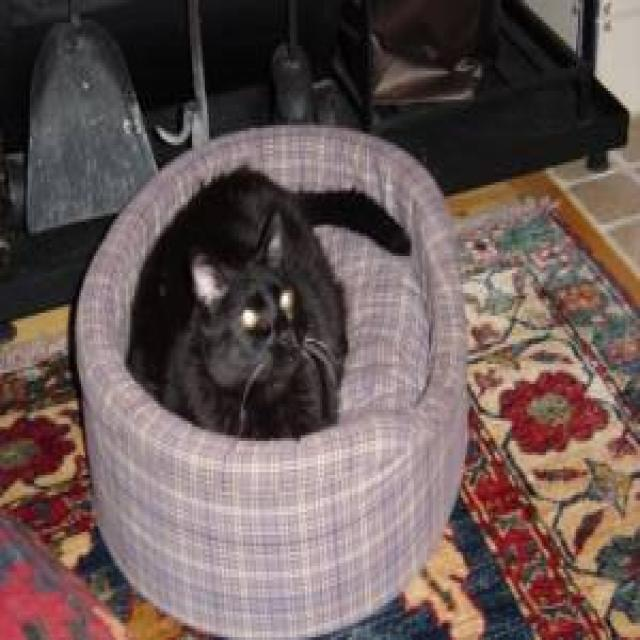Bombay: (190, 209, 319, 404)
